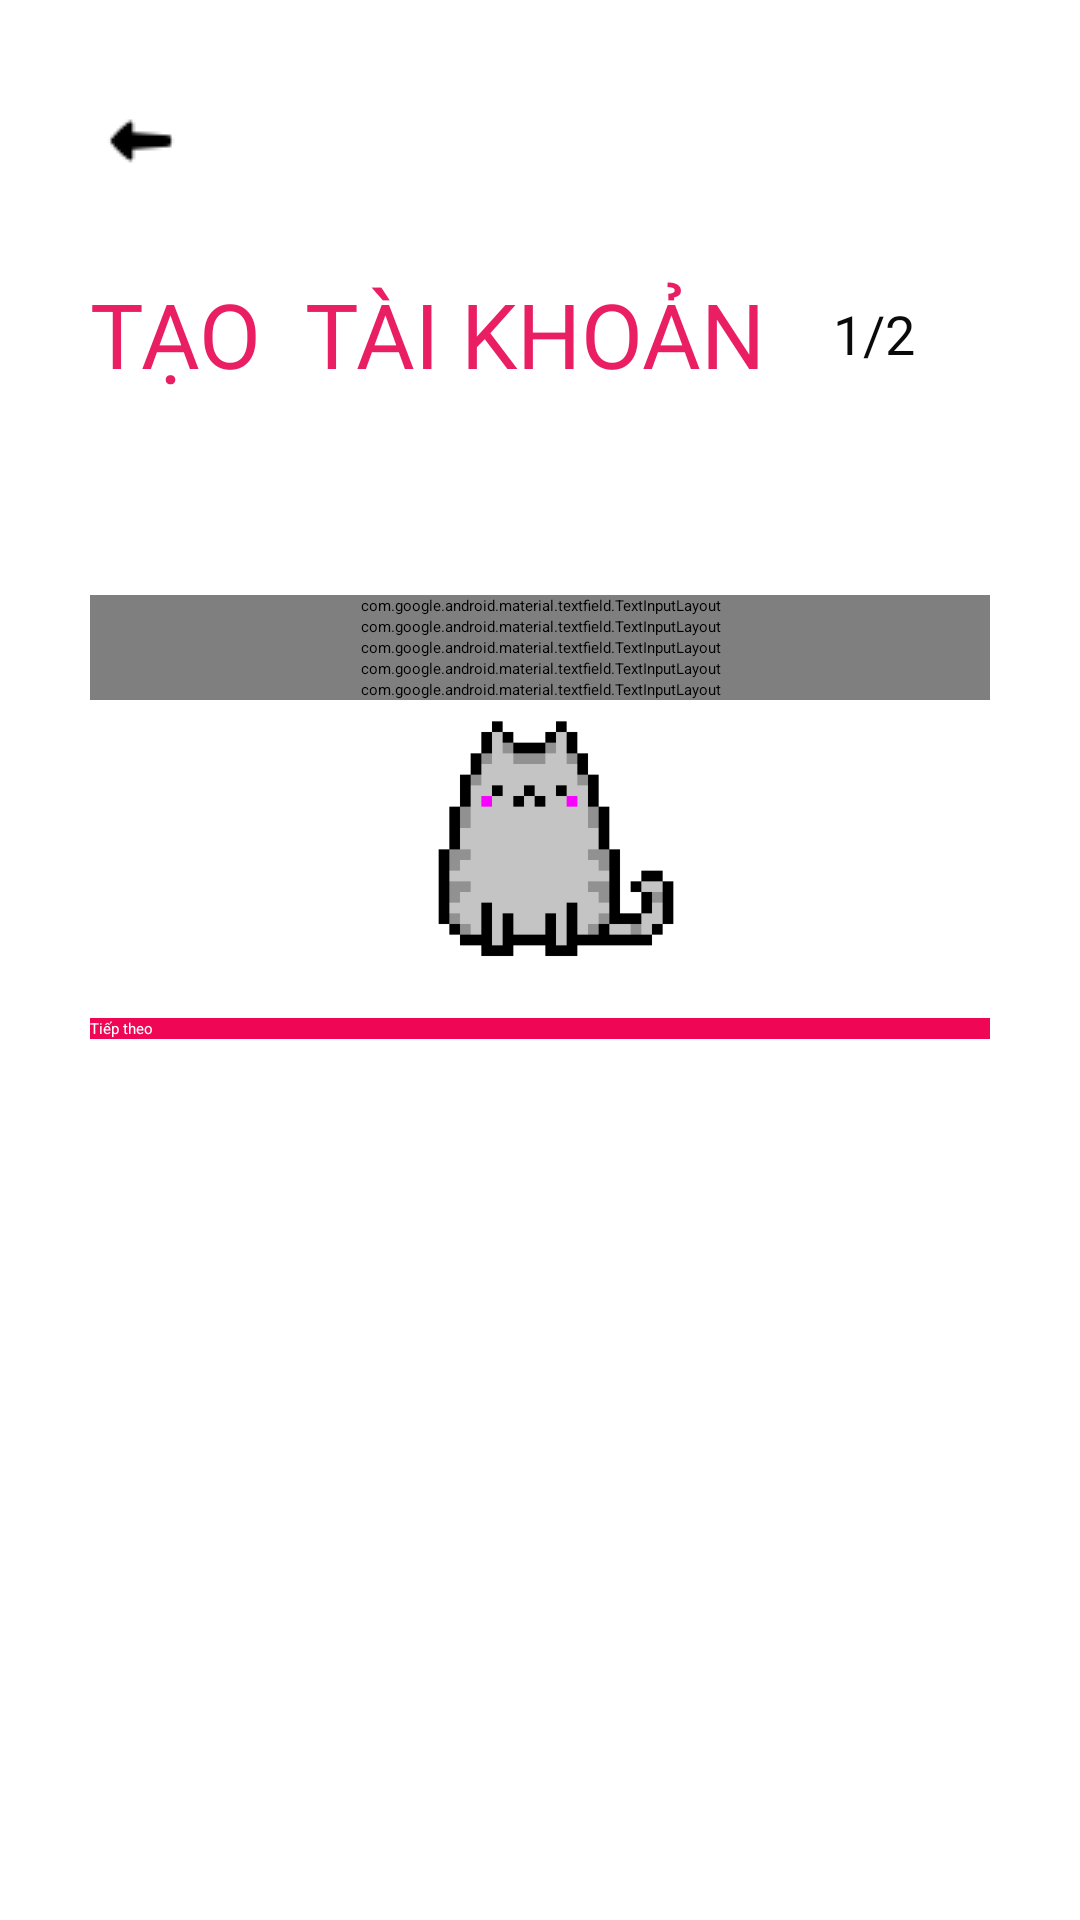

Icon bounding boxes for this 1080*1920 phone screenshot, format (x1, y1, x2, y2):
left arrow: (110, 119, 172, 163)
